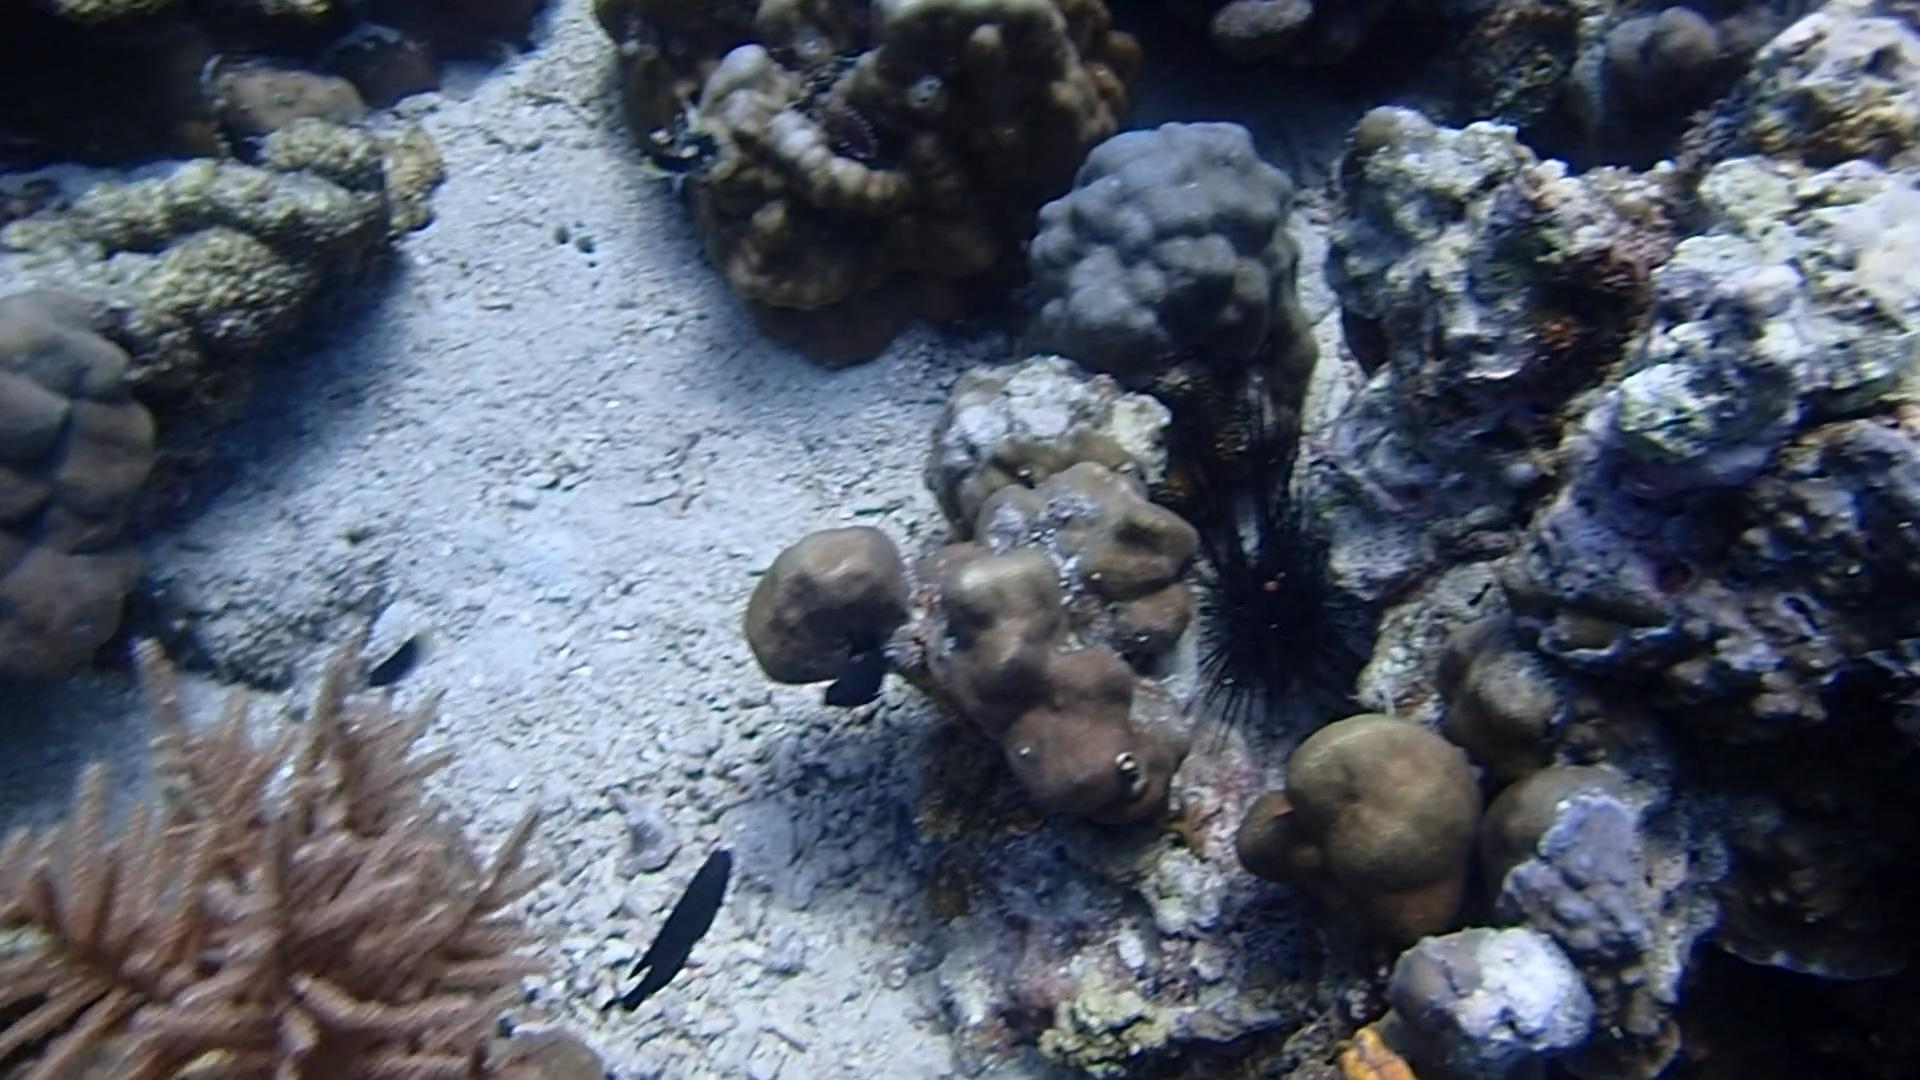Dark Fish: (593, 835, 757, 1021), (802, 642, 901, 724)
Yellow Tail: (359, 626, 442, 695), (625, 137, 700, 194)
